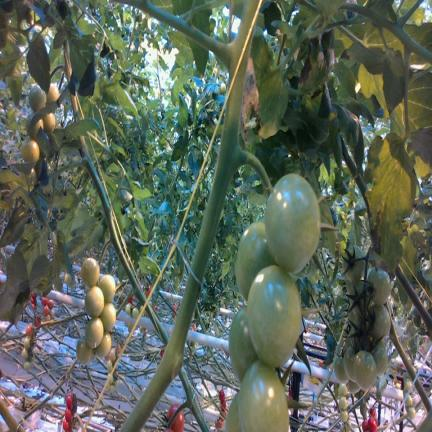6kp_peduncle: (207, 101, 274, 222), (167, 380, 202, 428), (99, 216, 123, 268), (50, 48, 72, 85)
6kp_petiole: (190, 14, 258, 110), (69, 139, 99, 187)
MainStem: (117, 0, 264, 432), (80, 136, 169, 345), (387, 300, 432, 413), (178, 367, 210, 432)
tomato: (247, 265, 301, 366), (265, 174, 320, 273), (239, 359, 289, 431), (235, 222, 275, 299), (229, 306, 257, 382), (353, 350, 377, 390), (343, 245, 365, 285), (368, 267, 390, 304), (350, 319, 373, 352), (225, 392, 242, 431), (371, 305, 390, 339), (349, 282, 369, 313), (85, 286, 104, 317), (372, 339, 388, 375), (85, 318, 104, 348), (81, 258, 99, 287), (28, 84, 46, 111), (76, 338, 94, 364), (99, 274, 115, 302), (100, 302, 116, 330), (168, 403, 184, 431), (21, 139, 39, 162), (26, 114, 43, 138), (344, 347, 355, 382), (95, 333, 111, 357), (334, 357, 348, 382), (348, 306, 361, 327), (43, 113, 55, 134), (47, 83, 59, 102), (348, 380, 360, 394), (105, 348, 116, 362), (346, 278, 355, 295), (368, 417, 377, 431), (406, 406, 416, 418), (344, 336, 353, 349), (338, 383, 347, 396), (338, 396, 347, 409), (404, 378, 412, 392), (66, 394, 72, 410), (64, 273, 72, 285), (34, 314, 41, 327), (362, 419, 369, 431), (23, 361, 32, 370), (63, 418, 69, 431), (65, 408, 71, 421), (405, 395, 412, 406), (47, 299, 54, 310), (132, 307, 139, 318), (22, 348, 28, 360), (24, 337, 30, 349), (26, 324, 32, 336), (107, 360, 113, 372), (220, 82, 226, 94), (125, 303, 131, 314), (113, 375, 119, 386), (173, 276, 179, 287), (107, 383, 114, 392), (43, 305, 49, 315), (41, 297, 47, 306), (49, 310, 55, 318), (45, 314, 50, 321), (109, 375, 113, 383)
